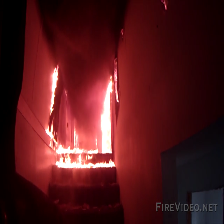fire_h: (56, 154, 116, 169), (101, 76, 112, 153), (53, 138, 98, 154), (50, 65, 59, 114)
fire_l: (46, 122, 58, 146), (114, 59, 119, 103), (74, 125, 79, 147), (163, 1, 167, 10), (121, 27, 124, 35)
